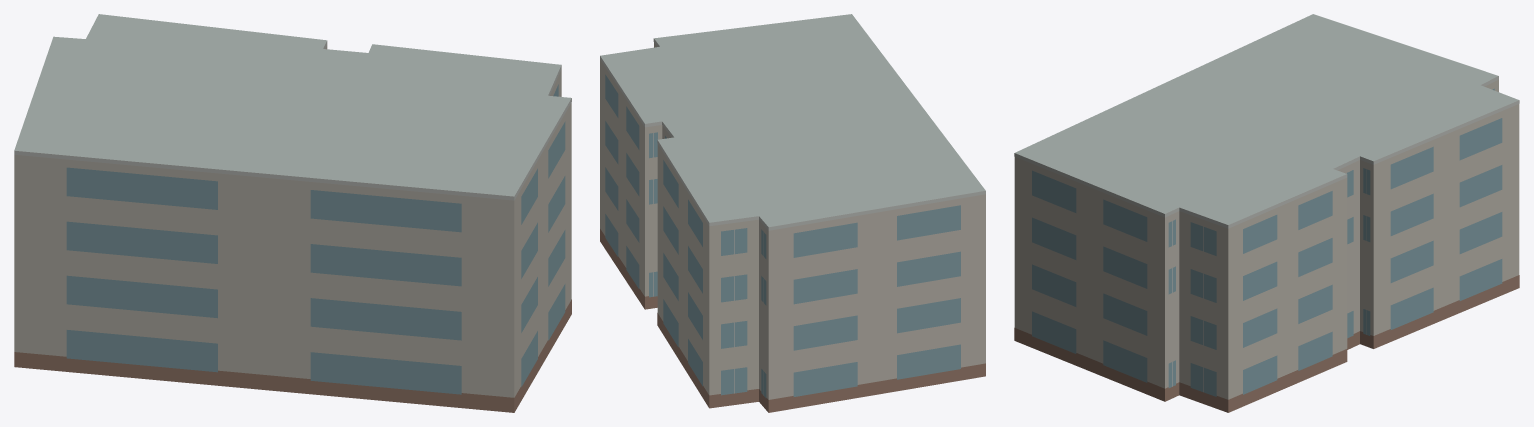
The model's file is survey-upis-32492382.glb.
3 views of the same model, side by side, from view 1: azimuth 30°, elevation 25°; view 2: azimuth 150°, elevation 25°; view 3: azimuth 270°, elevation 25° (orthographic). The views are drawn at different scales.
Parts seen in each view (by area): view 1: survey-upis-32492382.tmp; view 2: survey-upis-32492382.tmp; view 3: survey-upis-32492382.tmp.
Part boxes in pixels (left/top/right/bottom): survey-upis-32492382.tmp: left=14, top=14, right=571, bottom=412; survey-upis-32492382.tmp: left=600, top=14, right=985, bottom=412; survey-upis-32492382.tmp: left=1014, top=14, right=1519, bottom=412.
Bounding box in the file's own units: 31.12 × 12.9 × 31.45.
